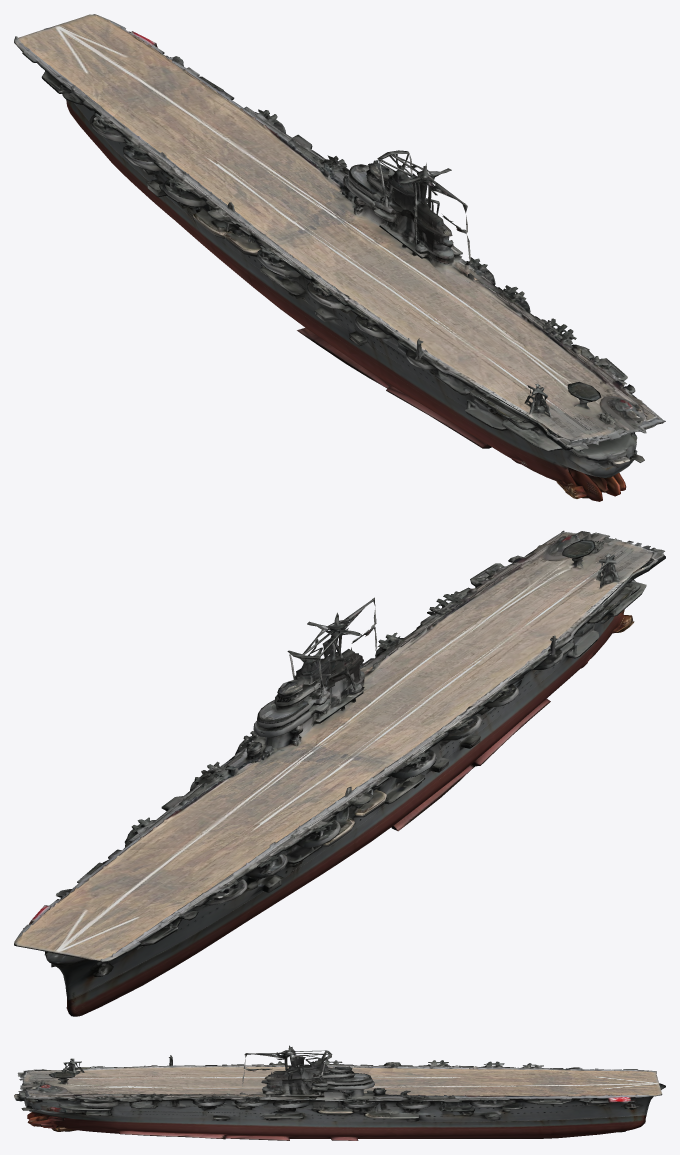
Rendered from carrier.soryu.glb.
3 views of the same model, one above another, from view 1: azimuth 30°, elevation 25°; view 2: azimuth 150°, elevation 25°; view 3: azimuth 270°, elevation 25° (orthographic). The views are drawn at different scales.
Parts seen in each view (by area): view 1: tripo_node_f4dd379d-6d4e-46ab-8584-2cf08fb53c4c; view 2: tripo_node_f4dd379d-6d4e-46ab-8584-2cf08fb53c4c; view 3: tripo_node_f4dd379d-6d4e-46ab-8584-2cf08fb53c4c.
Boxes of the visible parts, x1,y1,x2,y2 form: tripo_node_f4dd379d-6d4e-46ab-8584-2cf08fb53c4c: (14, 14, 665, 501); tripo_node_f4dd379d-6d4e-46ab-8584-2cf08fb53c4c: (14, 530, 665, 1016); tripo_node_f4dd379d-6d4e-46ab-8584-2cf08fb53c4c: (14, 1045, 665, 1140).
Bounding box in the file's own units: 36.35 × 40 × 228.
Materials: 1 (1 with a texture image).
